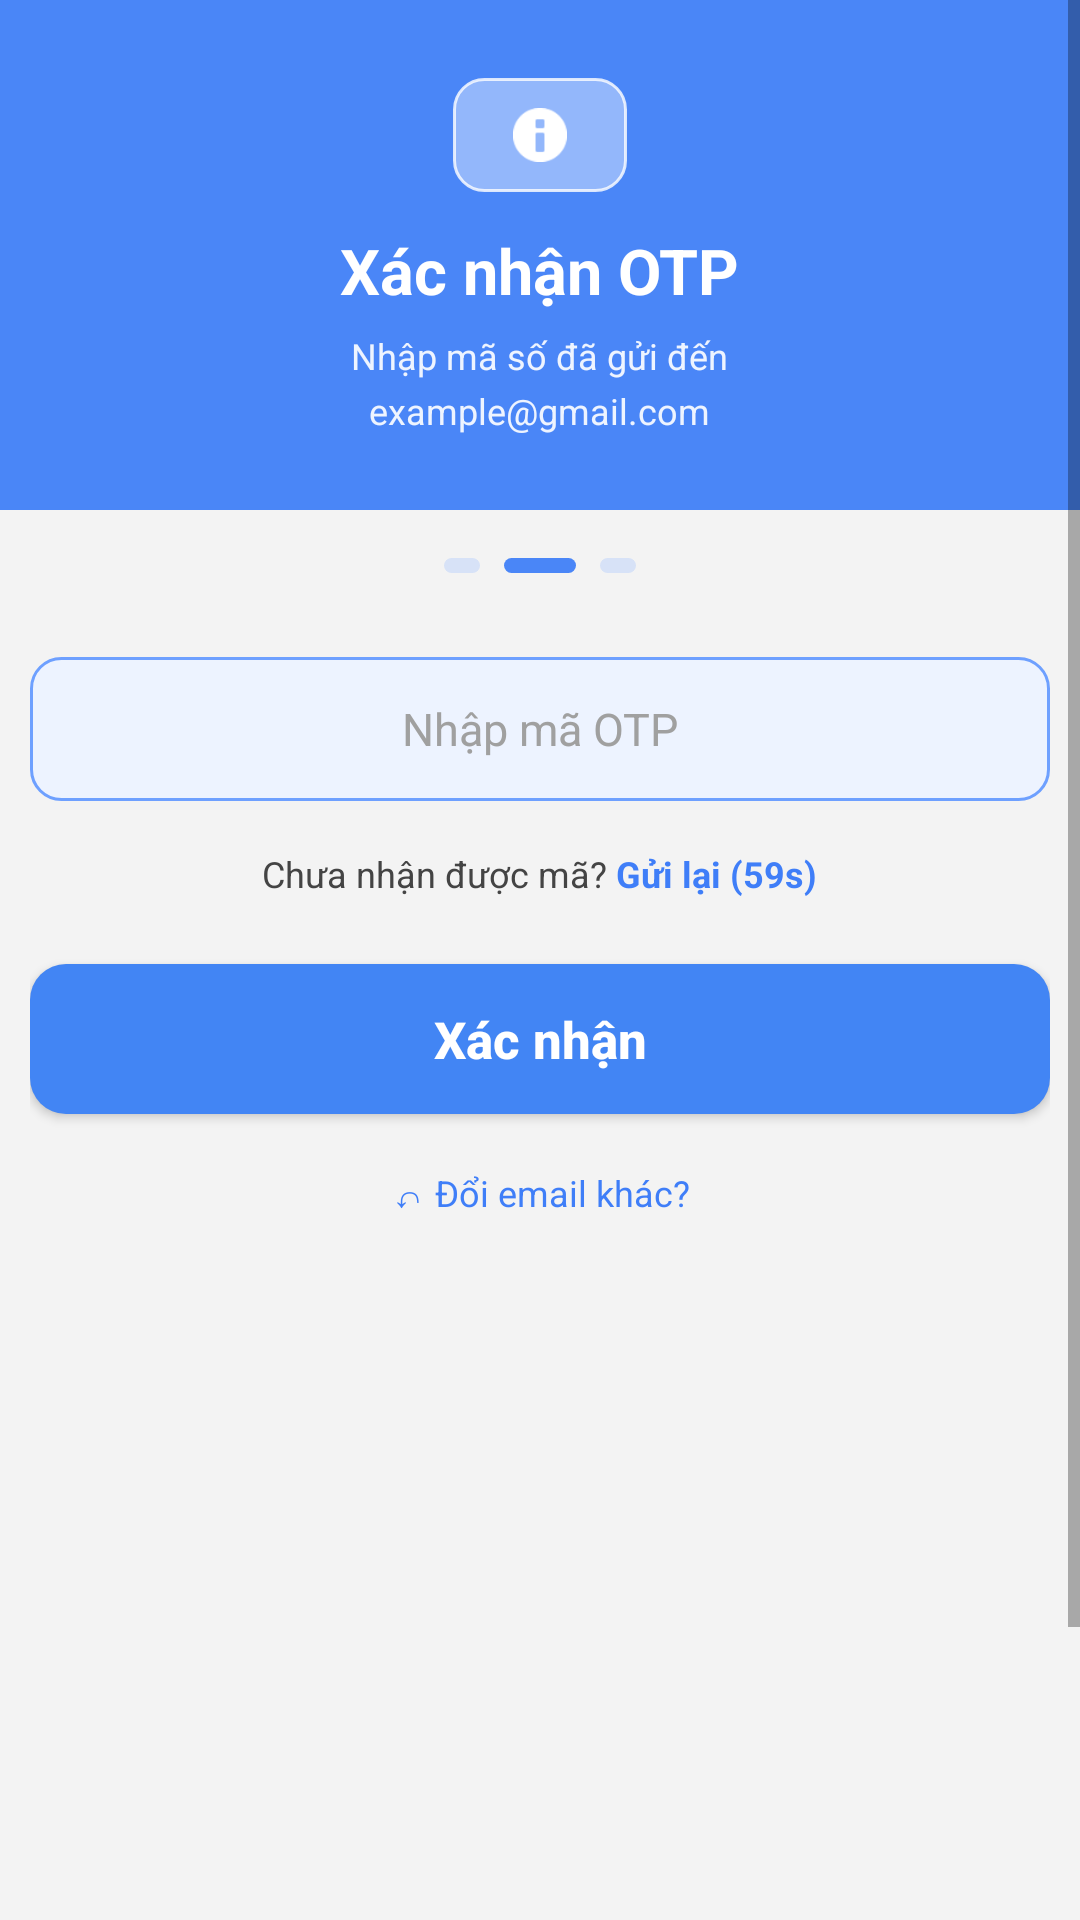

Named icons in this screenshot (1080*1920) and their centers, point (x, y):
info: point (540, 135)
